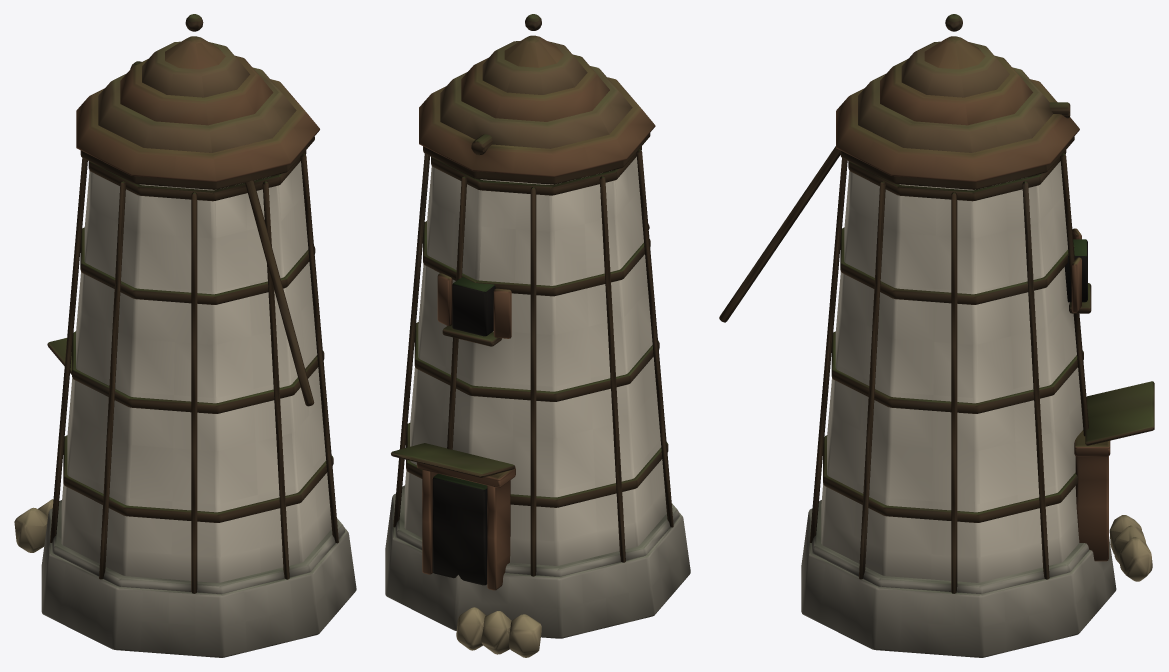
File: windmill_body.glb
The picture shows the model from 3 angles, left to right: view 1: azimuth 30°, elevation 25°; view 2: azimuth 150°, elevation 25°; view 3: azimuth 270°, elevation 25°; orthographic projection. The views are drawn at different scales.
Parts seen in each view (by area): view 1: windmill_body; view 2: windmill_body; view 3: windmill_body.
Boxes of the visible parts, bbox=[...] form: windmill_body: bbox=[14, 14, 356, 657]; windmill_body: bbox=[385, 14, 690, 657]; windmill_body: bbox=[719, 14, 1154, 657].
Bounding box in the file's own units: 5.78 × 11.62 × 7.88.
